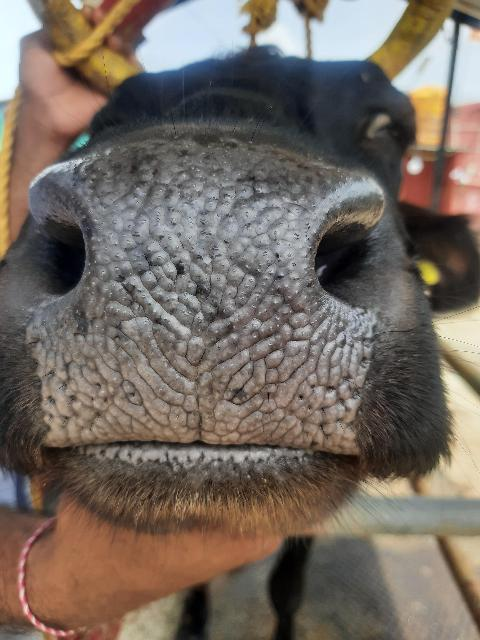Muzzle: (80, 150, 310, 450)
